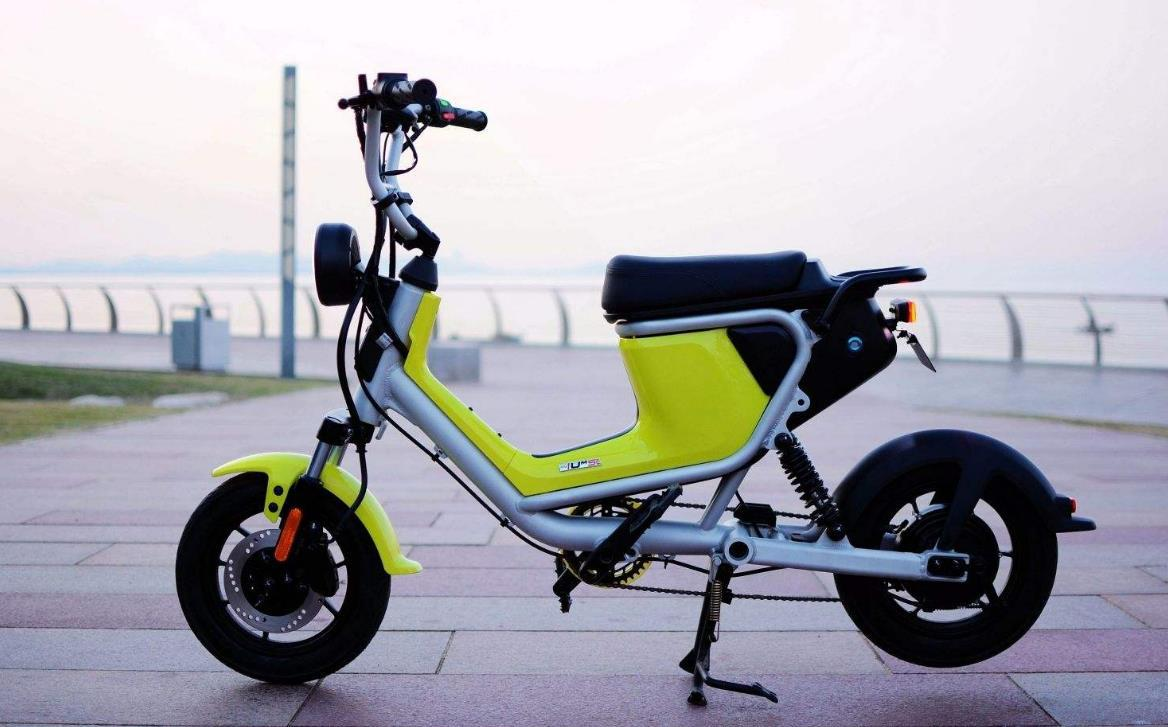电动车: (167, 68, 1123, 716)
